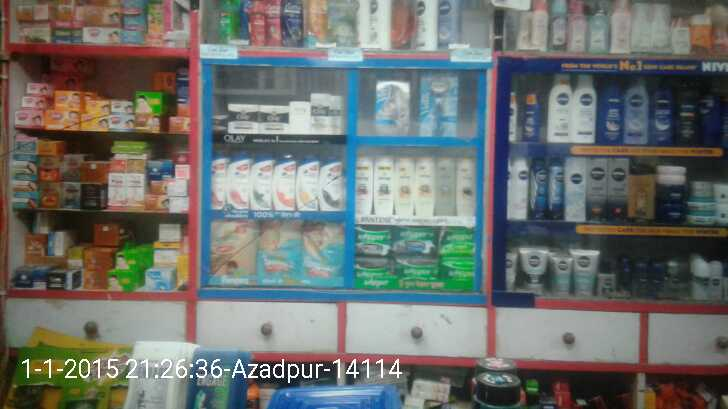venus: (418, 69, 459, 136), (375, 67, 411, 135)
